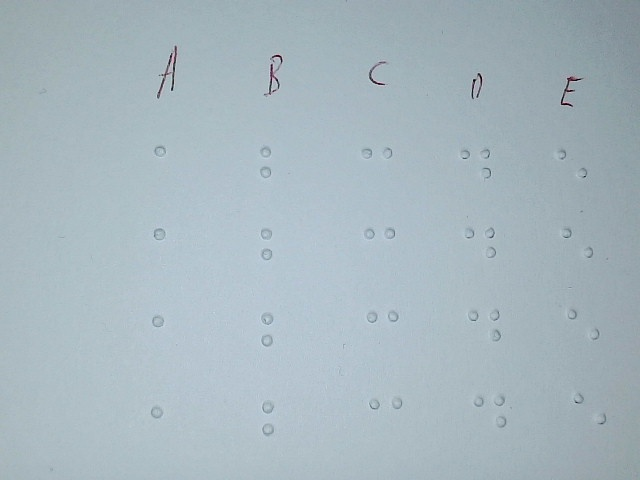A: (146, 136, 192, 206), (147, 218, 193, 288), (145, 304, 191, 374), (144, 398, 190, 468)
B: (252, 137, 297, 207), (252, 220, 297, 290), (253, 303, 298, 373), (254, 393, 299, 463)
C: (357, 139, 400, 202), (359, 220, 402, 283), (361, 303, 404, 366), (364, 388, 407, 451)
